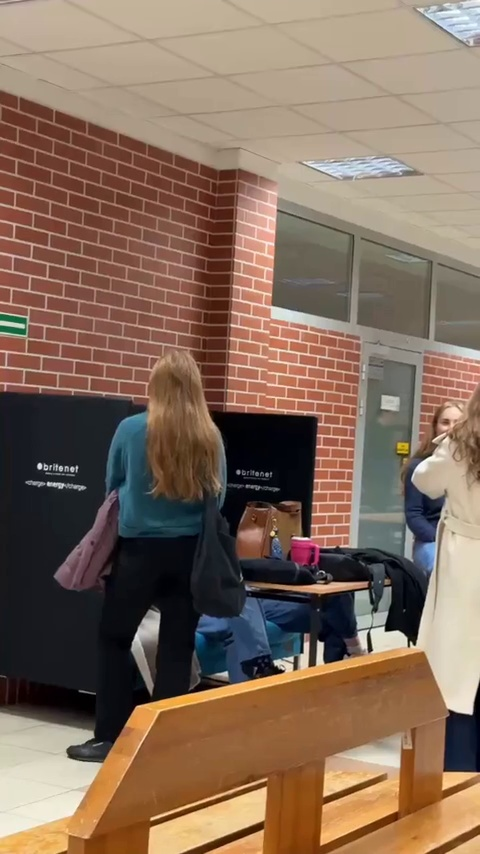no vest: (93, 351, 226, 697), (411, 375, 480, 724)
